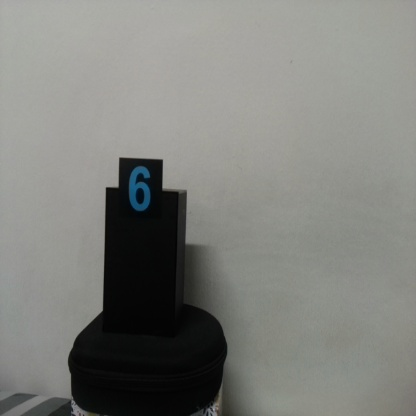id_6: (118, 158, 165, 231)
